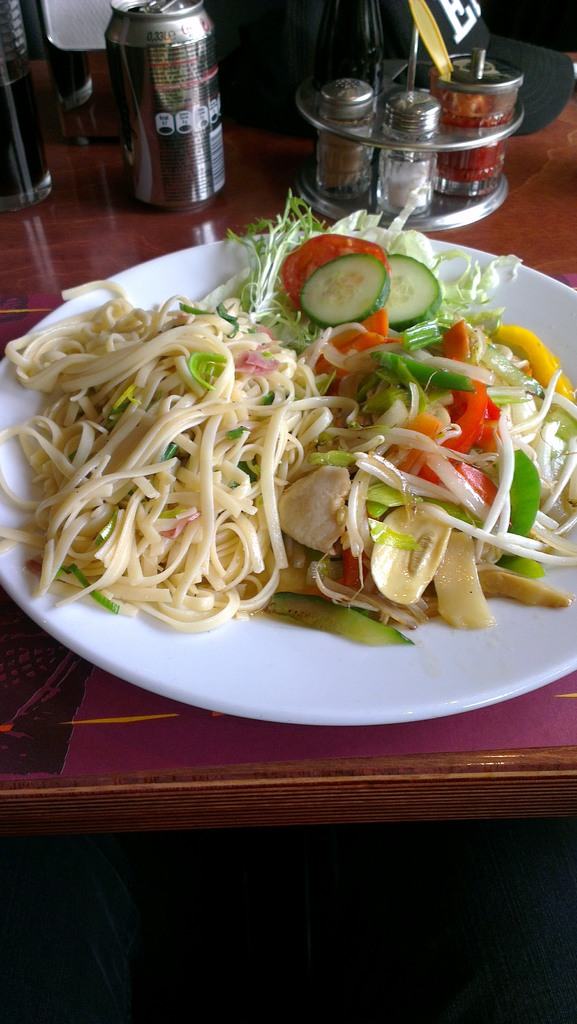salad: (258, 182, 576, 644)
